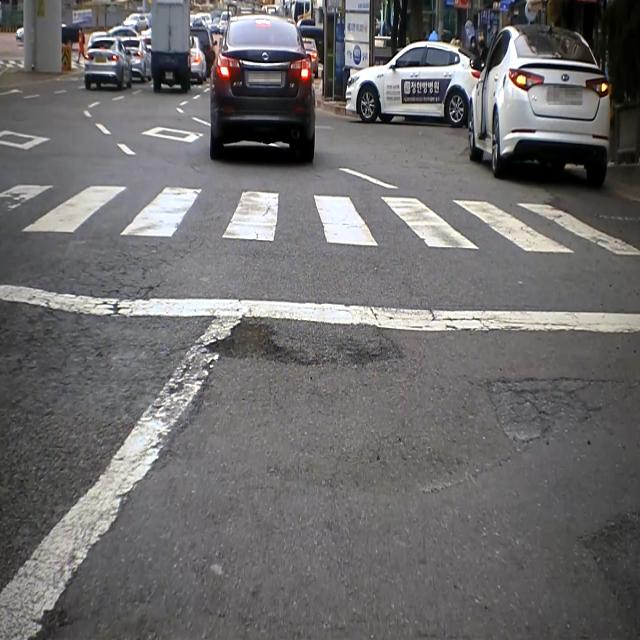Pothole: (200, 317, 406, 375), (477, 374, 609, 446), (582, 505, 640, 640)
